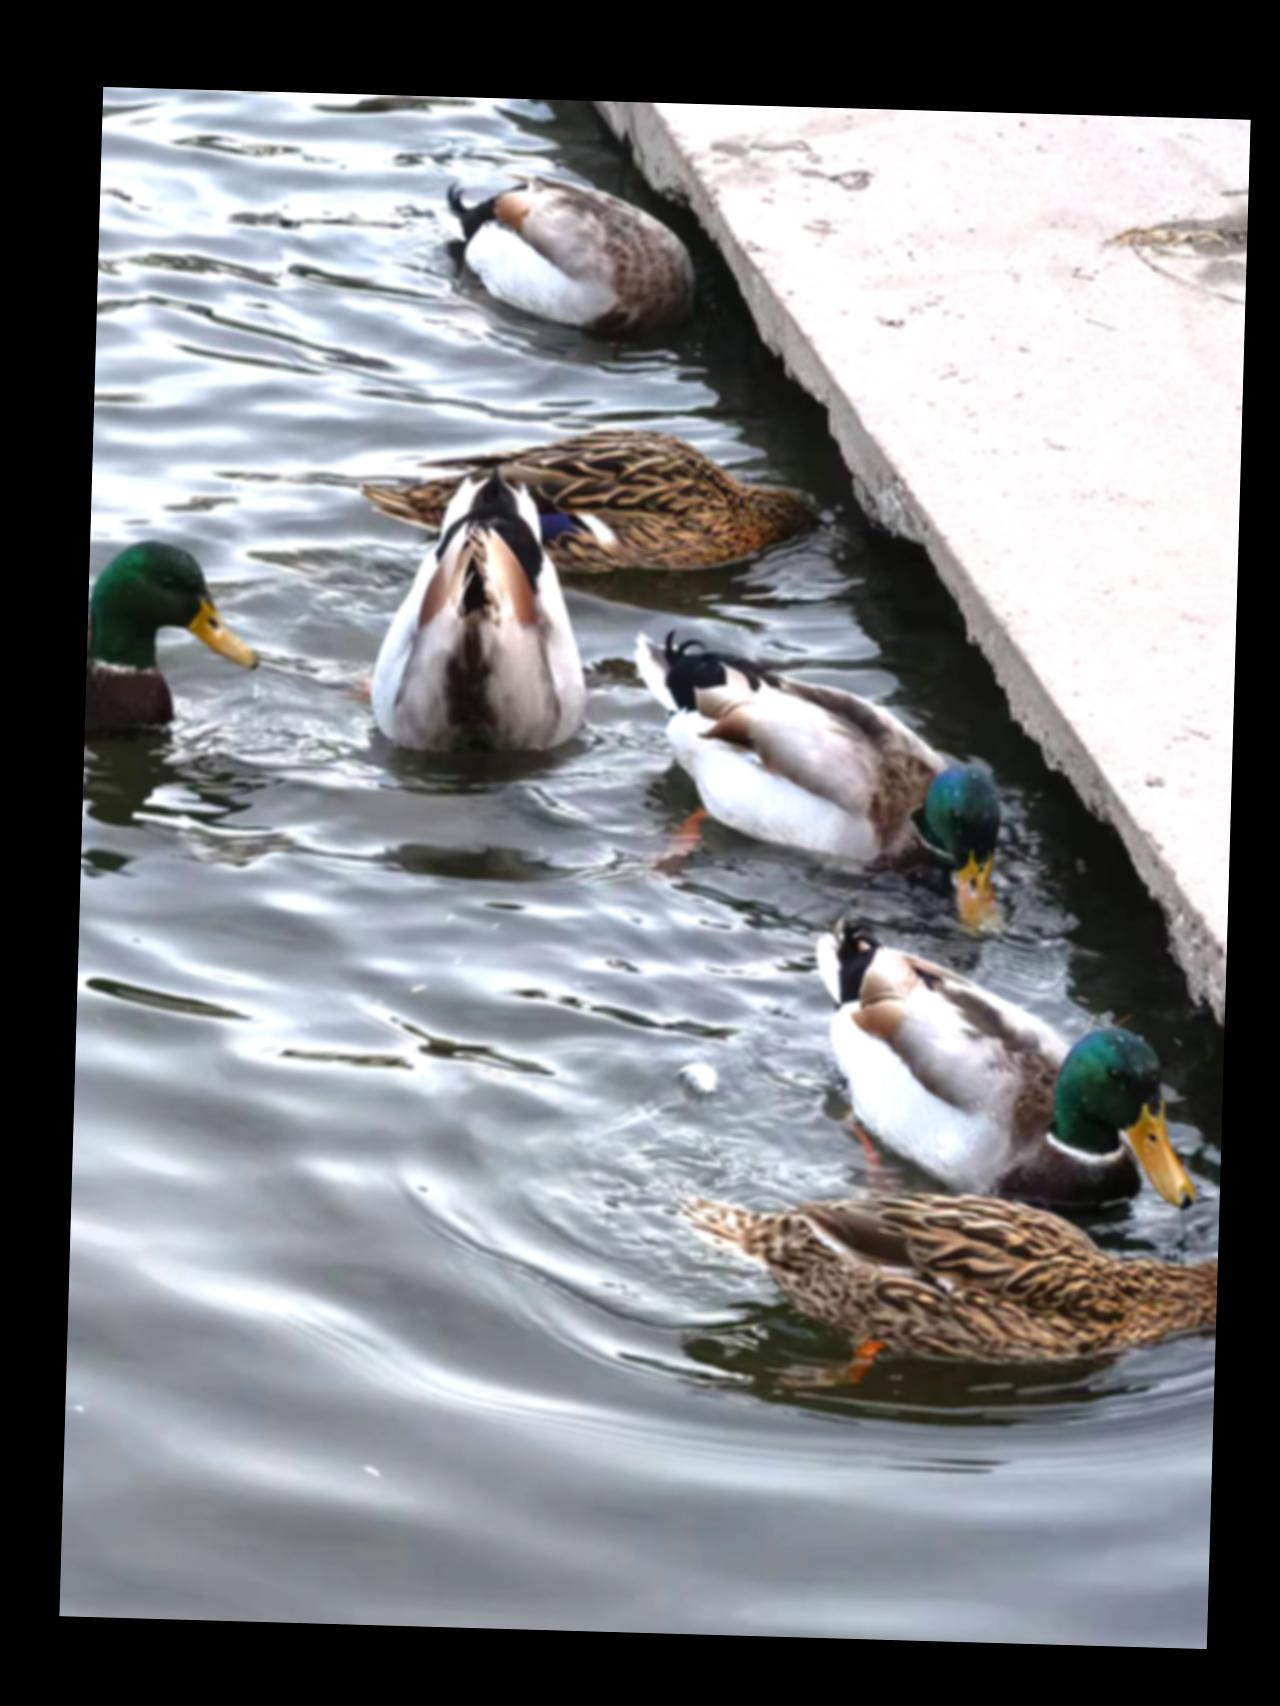duck: (614, 620, 1023, 950), (657, 1166, 1213, 1408), (796, 899, 1203, 1213), (327, 398, 846, 602), (337, 454, 608, 772), (81, 519, 280, 852), (407, 167, 714, 347)
